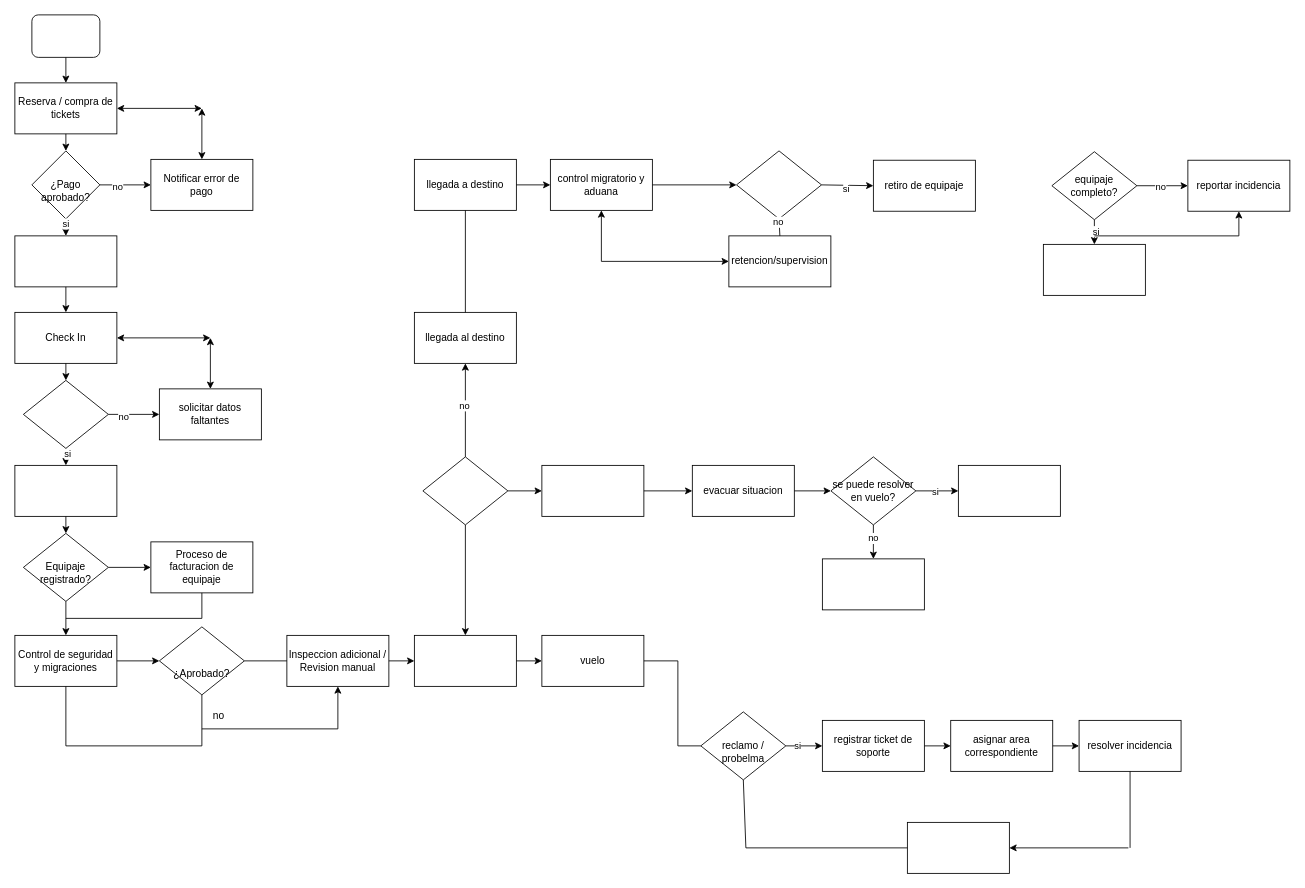
This 1305x888 diagram has some shape labels left out. The centre of each missing label's shape, as x and y in pixels:
"abordaje al avion" goes at [465,660].
"asignacion de asiento y documentacion de viaje" goes at [65,490].
"cierre de caso" goes at [958,847].
"continuar vuelo (monitoreado)" goes at [1009,490].
"desvio o aterrizaje de emergencia" goes at [873,584].
"Documentacion?" goes at [779,184].
"Emision de boleto y confirmacion" goes at [65,261].
"incidencia durante el vuelo?" goes at [465,490].
"Inicio" goes at [65,35].
"protoocolo de emergencia" goes at [592,490].
"salida del aeropuerto" goes at [1094,269].
"¿check in completo?" goes at [65,414].
